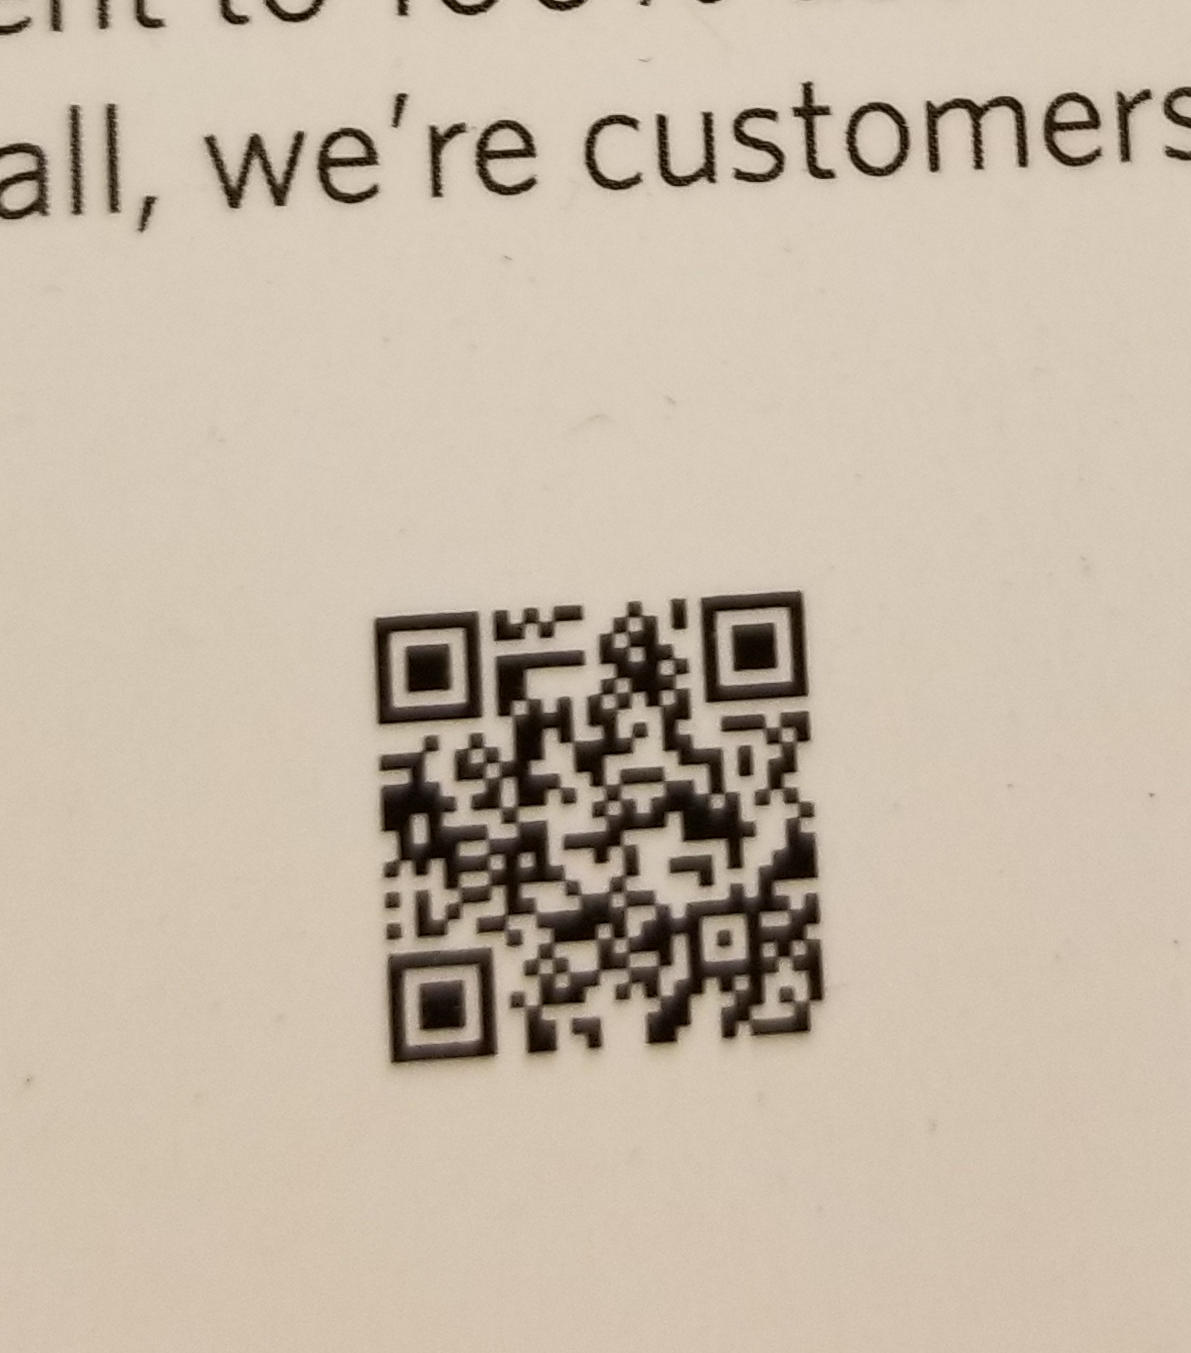QR_CODE: (319, 536, 878, 1090)
